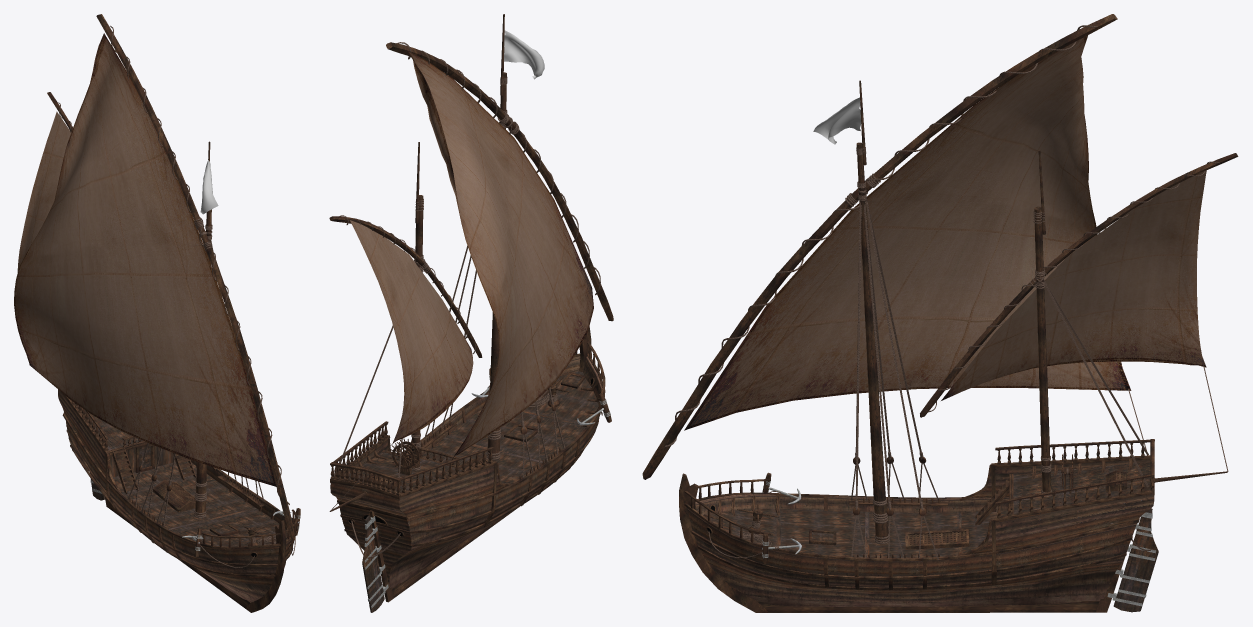
File: LaNina_.fbx
The picture shows the model from 3 angles, left to right: view 1: azimuth 30°, elevation 25°; view 2: azimuth 150°, elevation 25°; view 3: azimuth 270°, elevation 25°; orthographic projection. The views are drawn at different scales.
Visible parts, largest first — view 1: LaNIna; view 2: LaNIna; view 3: LaNIna.
Boxes of the visible parts, <box> form: LaNIna: <box>14,14,300,612</box>; LaNIna: <box>329,14,613,612</box>; LaNIna: <box>642,14,1238,612</box>.
Size of the model in its own units: 4.64 by 14.45 by 13.12.
